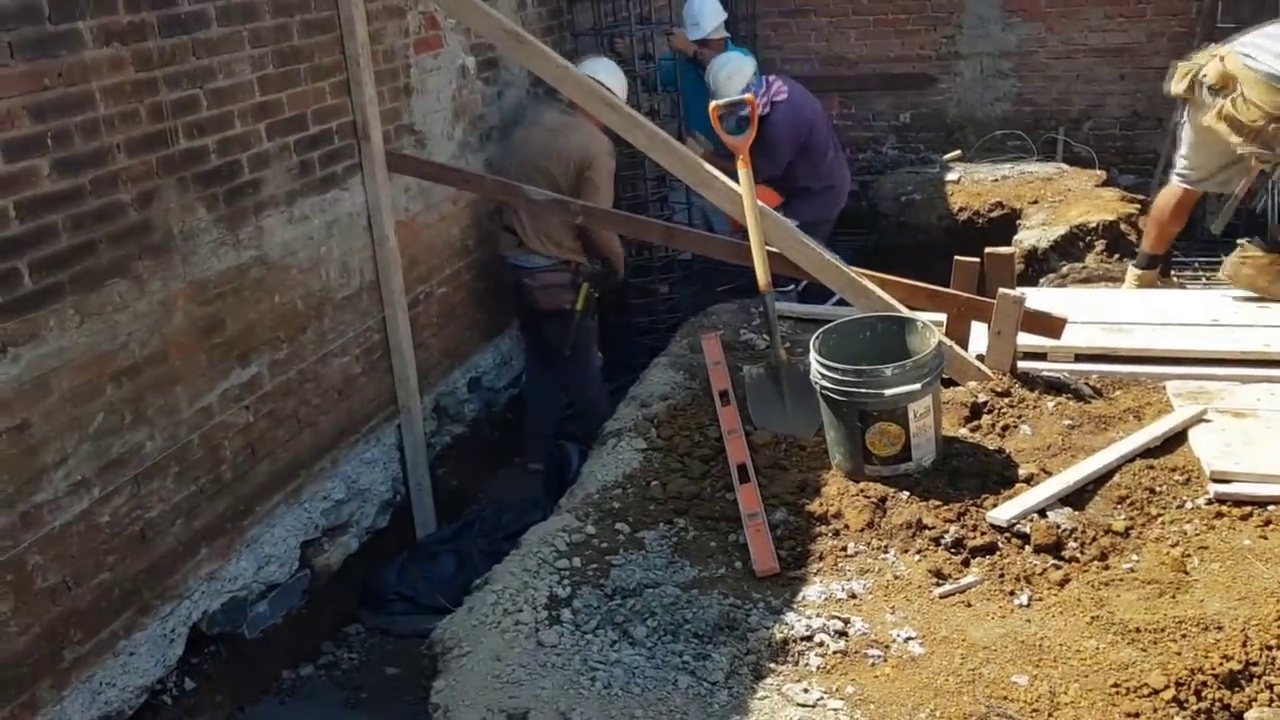helmet: (702, 51, 758, 106), (572, 52, 629, 103), (684, 7, 730, 44)
helmet-on: (558, 48, 629, 134), (703, 50, 778, 119), (676, 0, 733, 61)
person: (479, 49, 629, 464), (1126, 26, 1278, 304), (703, 50, 852, 247), (646, 0, 755, 268)
